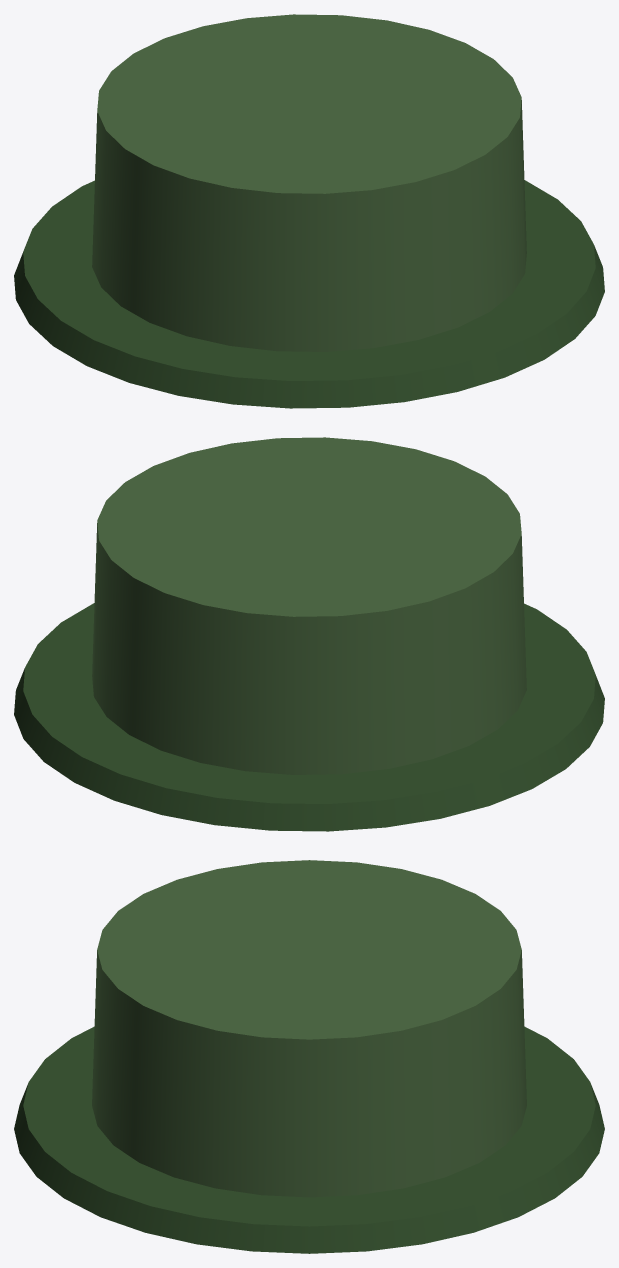
Rendered from bucket.glb.
3 views of the same model, one above another, from view 1: azimuth 30°, elevation 25°; view 2: azimuth 150°, elevation 25°; view 3: azimuth 270°, elevation 25° (orthographic).
Visible parts, largest first — view 1: bucket; view 2: bucket; view 3: bucket.
Part boxes in pixels (bbox=[...]): bucket: bbox=[14, 14, 604, 408]; bucket: bbox=[14, 437, 604, 831]; bucket: bbox=[14, 860, 604, 1253].
Size of the model in its own units: 0.32 by 0.107 by 0.32.
